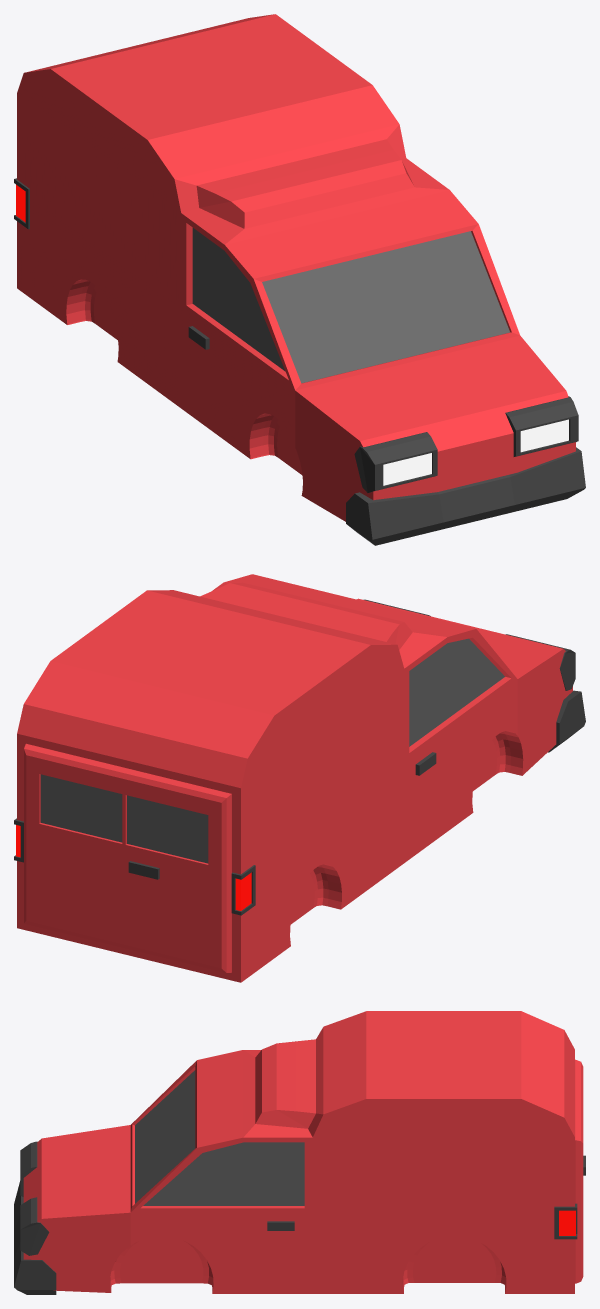
The model's file is Furgon1_body.glb.
3 renders of one model, top to bottom at view 1: azimuth 30°, elevation 25°; view 2: azimuth 150°, elevation 25°; view 3: azimuth 270°, elevation 25°, orthographic. The views are drawn at different scales.
Visible parts, largest first — view 1: Furgon1.001, Cubo.015, Cubo.016; view 2: Furgon1.001, Cubo.017, Cubo.015, Cubo.016; view 3: Furgon1.001, Cubo.015, Cubo.016, Cubo.017.
Part boxes in pixels (x1,y1,x2,y2): Furgon1.001: (17,14,575,521); Cubo.015: (346,447,585,545); Cubo.016: (354,396,578,492); Furgon1.001: (17,574,572,982); Cubo.017: (14,818,255,915); Cubo.015: (548,690,585,752); Cubo.016: (363,599,575,690); Furgon1.001: (23,1011,583,1293); Cubo.015: (14,1181,56,1294); Cubo.016: (20,1141,49,1255); Cubo.017: (554,1203,577,1239).
Size of the model in its own units: 3.05 by 3.18 by 8.13.
